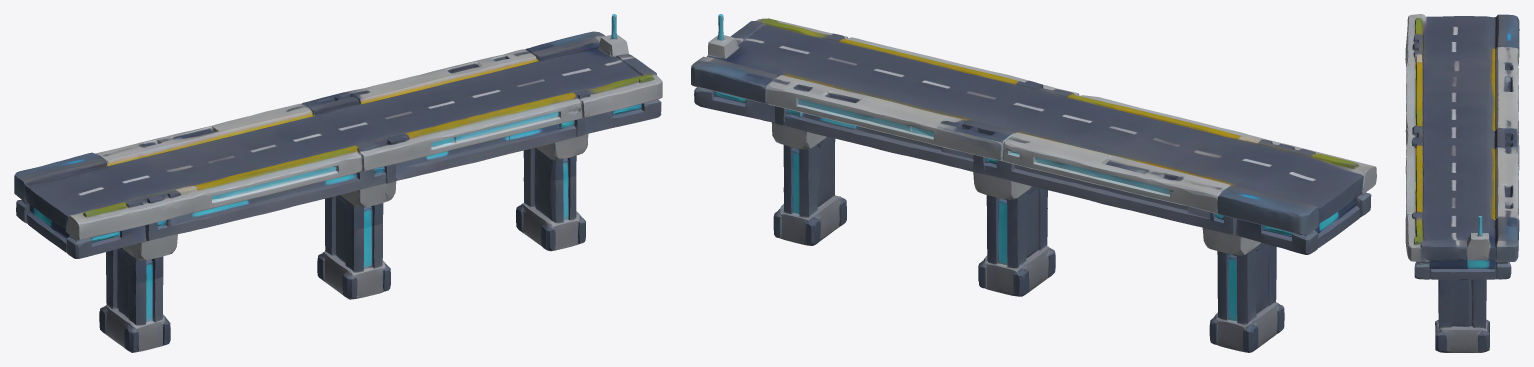
3 views of the same model, side by side, from view 1: azimuth 30°, elevation 25°; view 2: azimuth 150°, elevation 25°; view 3: azimuth 270°, elevation 25° (orthographic). The views are drawn at different scales.
Visible parts, largest first — view 1: Mesh; view 2: Mesh; view 3: Mesh.
Boxes of the visible parts, left/top/right/bottom form: Mesh: left=14, top=14, right=662, bottom=352; Mesh: left=691, top=14, right=1376, bottom=352; Mesh: left=1405, top=14, right=1519, bottom=352.
Bounding box in the file's own units: 1.9 × 0.605 × 0.3926.
1 material, 1 textured.
